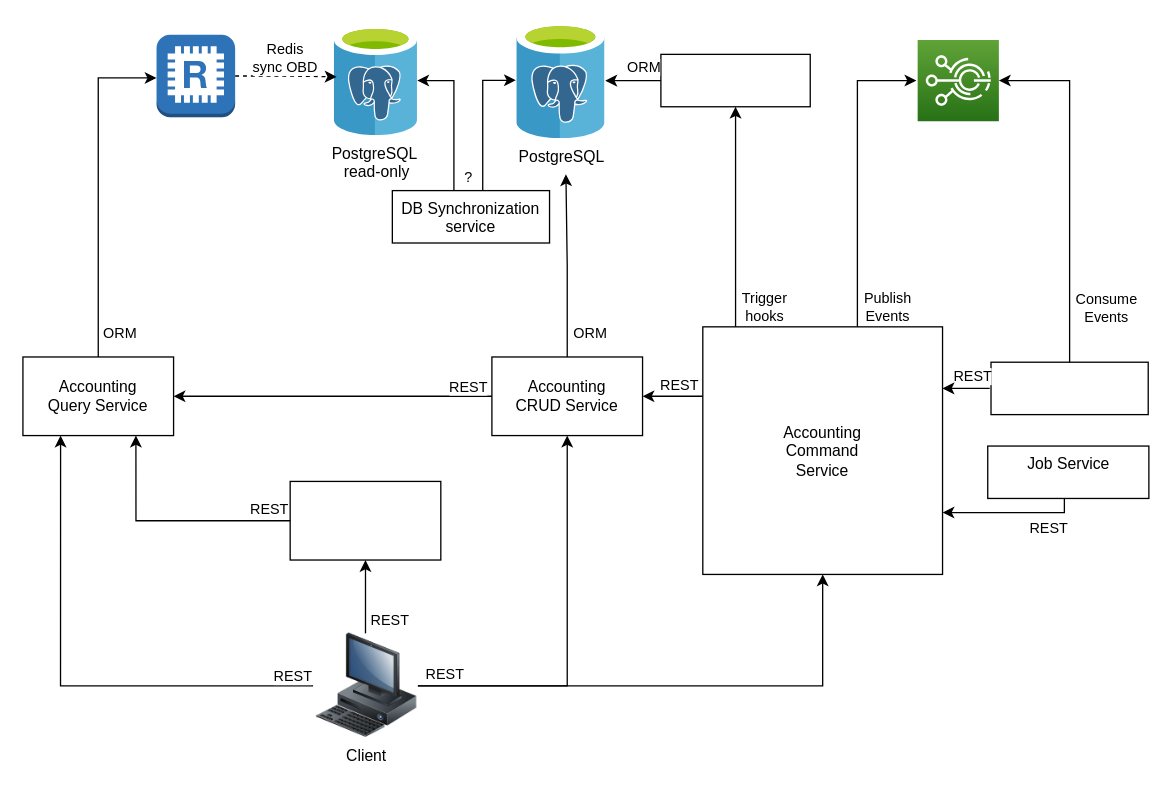
The diagram is 1172 pixels wide and 796 high, and some of its shapes have lost their labels. The box of each missing label's shape, as (x1, y1, x2, y2) in pixels:
Event Processing Service: (990, 361, 1148, 415)
Node.js SSR service: (289, 480, 441, 560)
Redis cache: (155, 33, 235, 117)
Web Hook Service: (660, 53, 810, 107)
